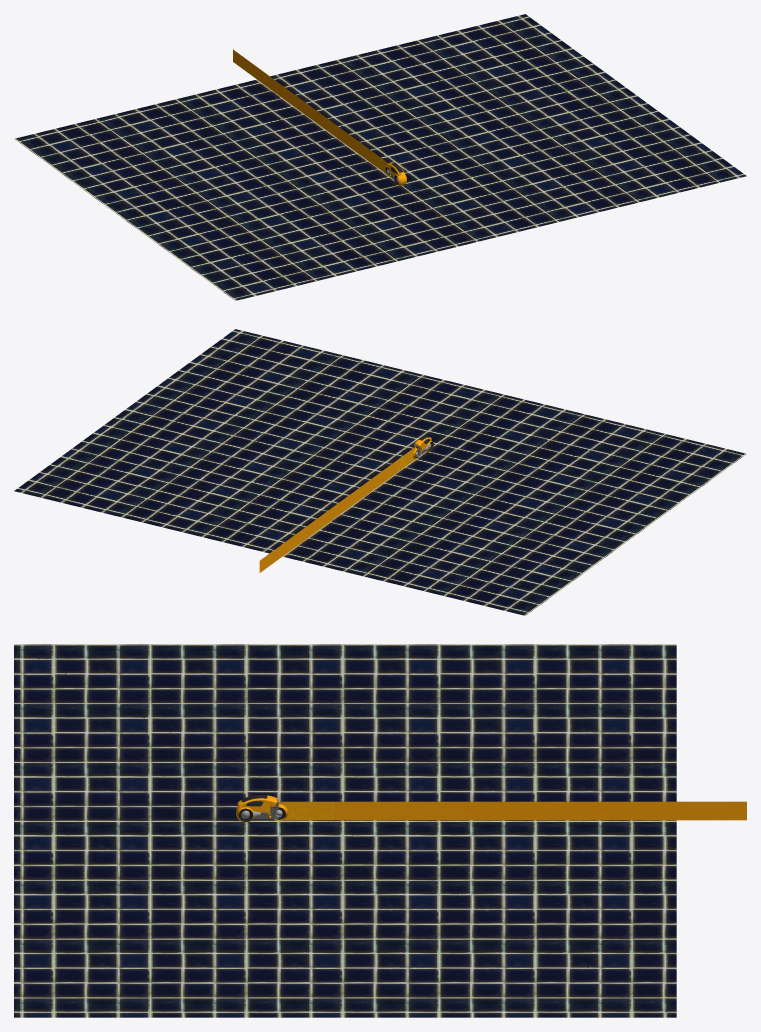
The model's file is LightCycle.dae.
The picture shows the model from 3 angles, top to bottom: view 1: azimuth 30°, elevation 25°; view 2: azimuth 150°, elevation 25°; view 3: azimuth 270°, elevation 25°; orthographic projection. The views are drawn at different scales.
Visible parts, largest first — view 1: Model; view 2: Model; view 3: Model.
Part boxes in pixels (left/top/right/bottom): Model: left=14, top=14, right=746, bottom=300; Model: left=14, top=329, right=746, bottom=615; Model: left=14, top=644, right=746, bottom=1017.
Size of the model in its own units: 5713 by 4738 by 182.
9 materials, 1 textured.
